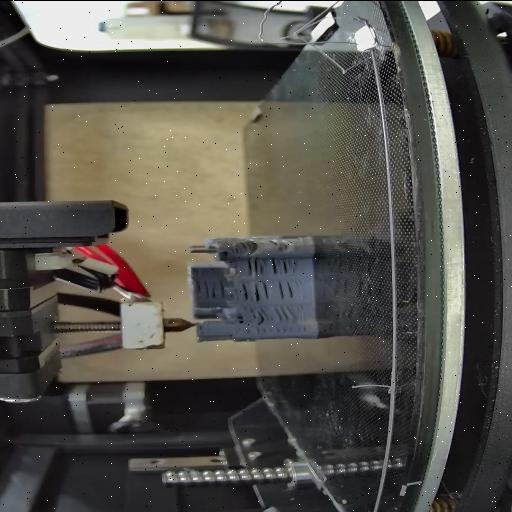cracks: (192, 276, 230, 300), (238, 281, 272, 301), (246, 326, 308, 336), (274, 278, 302, 299), (242, 306, 270, 326), (270, 256, 298, 274), (272, 304, 302, 320), (244, 258, 266, 276), (239, 240, 261, 250), (264, 237, 282, 247), (219, 332, 236, 338)
